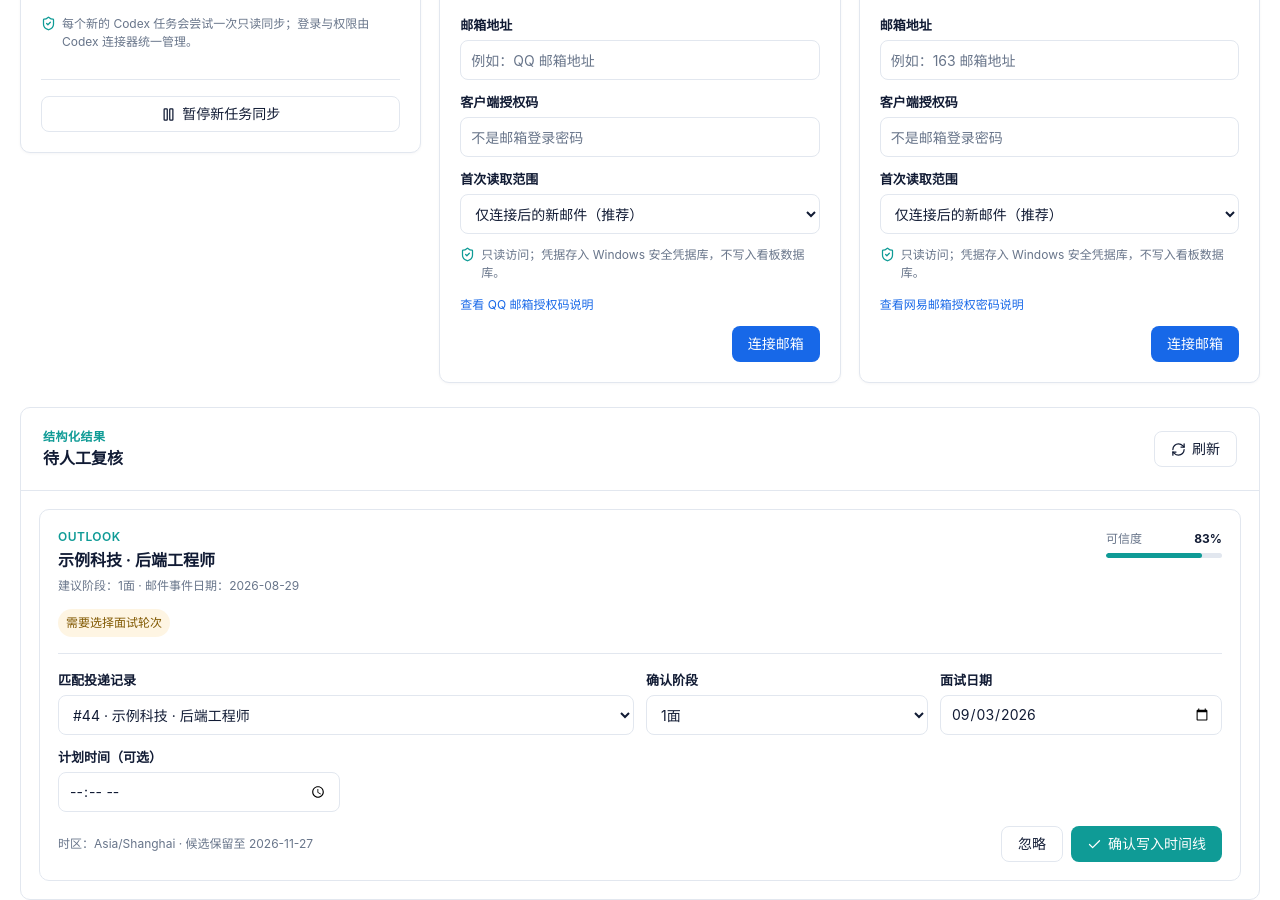
Test: MailIngestionView › 不把 00:00 当作未知时间写入
The image size is (1280, 900).
(page scrolled)
Type "00:00" into the time field labelled "计划时间（可选）". click: {"x": 199, "y": 792}
box: [58,772,340,812]
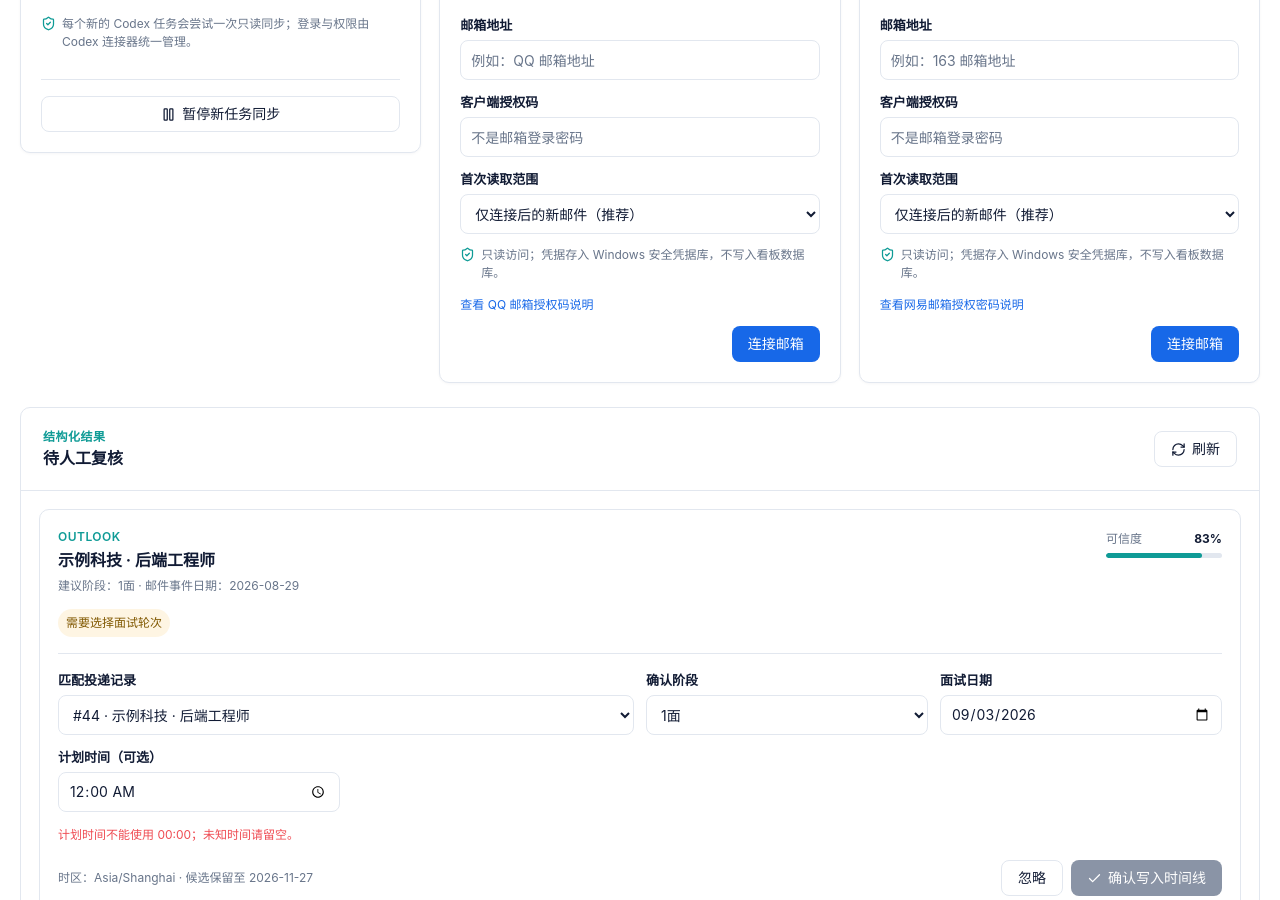
Expected: the text "计划时间不能使用 00:00；未知时间请留空。" is shown, [58,827,299,842]
Expected: the button "确认写入时间线" is disabled, [1071,860,1222,896]
